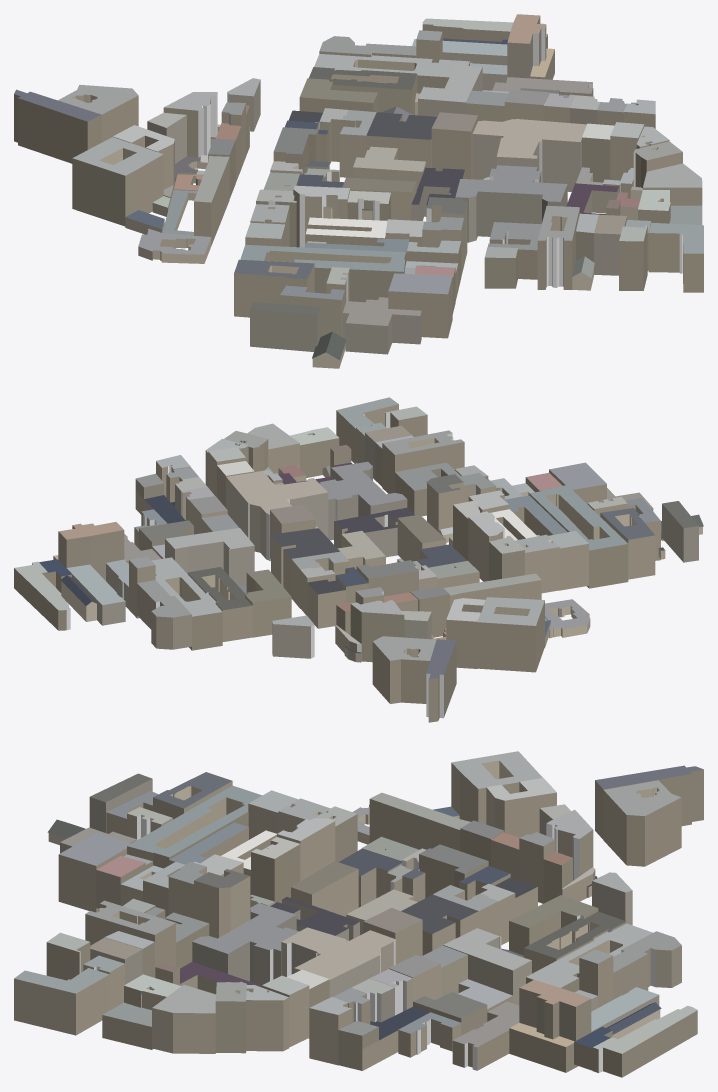
3 views of the same model, one above another, from view 1: azimuth 30°, elevation 25°; view 2: azimuth 150°, elevation 25°; view 3: azimuth 270°, elevation 25° (orthographic). The views are drawn at different scales.
Parts seen in each view (by area): view 1: tuile; view 2: tuile; view 3: tuile.
Part boxes in pixels (bbox=[...]): tuile: bbox=[14, 14, 703, 368]; tuile: bbox=[14, 397, 703, 722]; tuile: bbox=[14, 751, 703, 1077].
Bounding box in the file's own units: 276 × 33.87 × 296.
